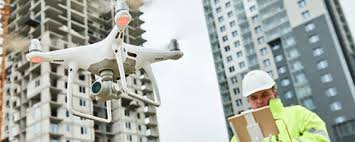hard hat: (241, 70, 275, 95)
high-vis: (231, 99, 330, 141)
